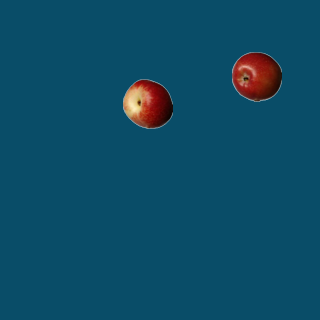Apple Braeburn: (231, 51, 281, 101)
Nectarine: (122, 78, 172, 128)
